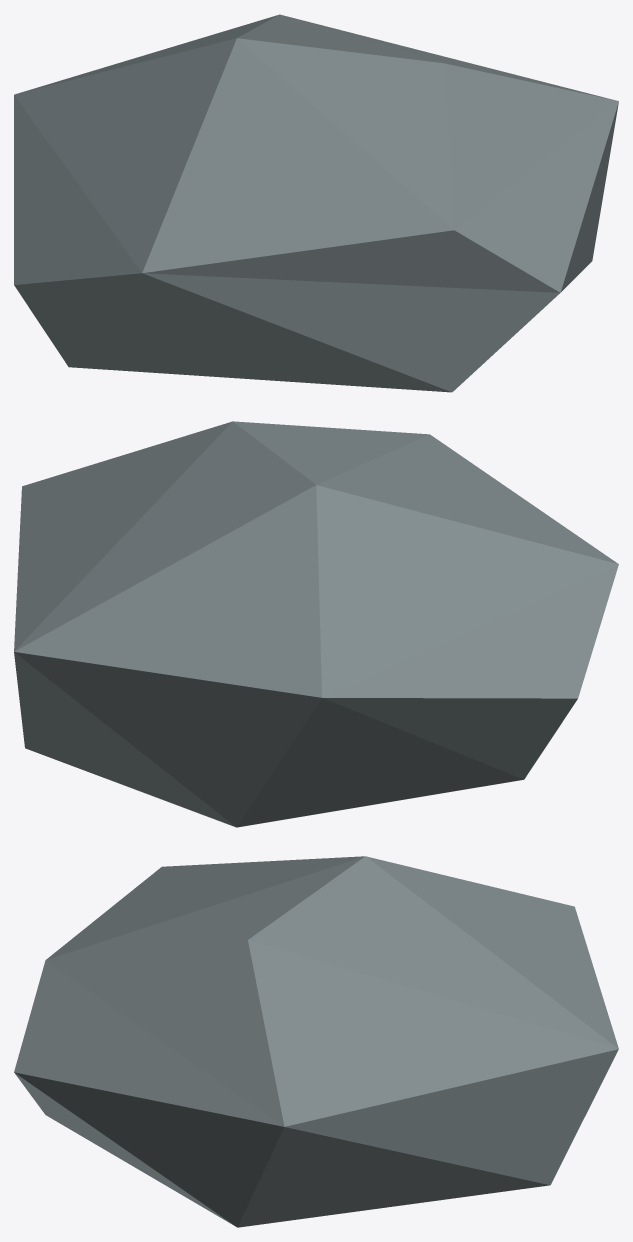
Rendered from Rock_02.fbx.
3 views of the same model, one above another, from view 1: azimuth 30°, elevation 25°; view 2: azimuth 150°, elevation 25°; view 3: azimuth 270°, elevation 25° (orthographic). The views are drawn at different scales.
Parts seen in each view (by area): view 1: Rock_02; view 2: Rock_02; view 3: Rock_02.
Part boxes in pixels (bbox=[...]): Rock_02: bbox=[14, 14, 618, 392]; Rock_02: bbox=[14, 421, 618, 827]; Rock_02: bbox=[14, 856, 618, 1227].
Bounding box in the file's own units: 23.11 × 12.39 × 21.54.
